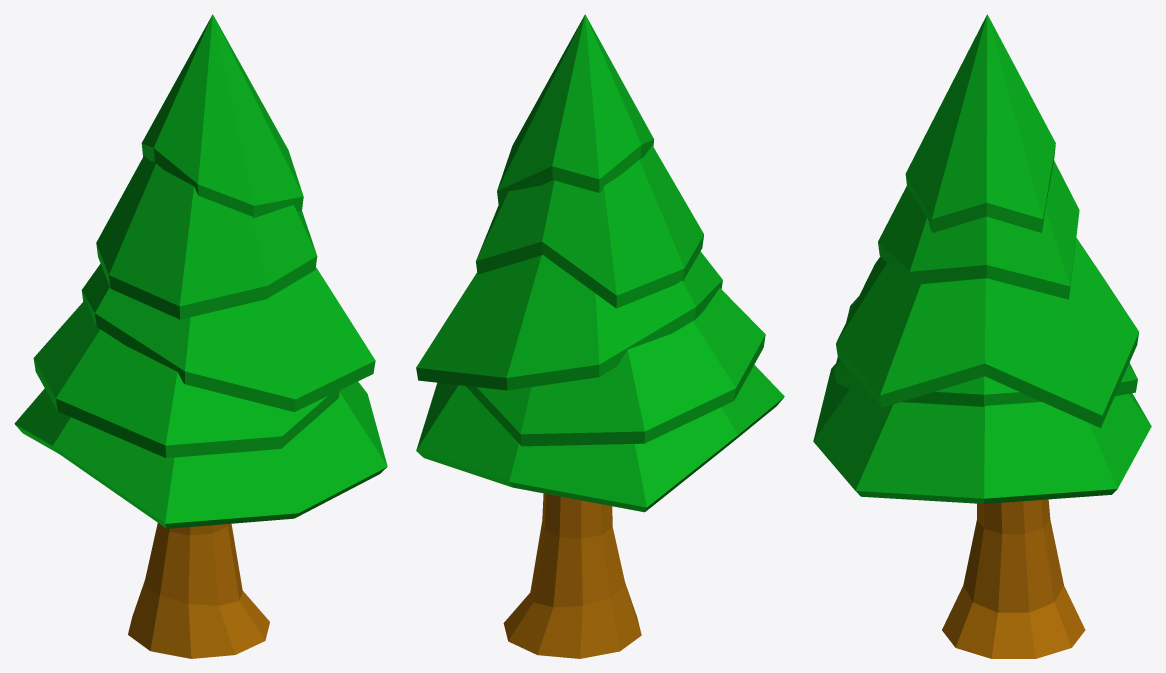
The model's file is Tree.fbx.
The picture shows the model from 3 angles, left to right: view 1: azimuth 30°, elevation 25°; view 2: azimuth 150°, elevation 25°; view 3: azimuth 270°, elevation 25°; orthographic projection. The views are drawn at different scales.
Parts seen in each view (by area): view 1: Plane, Plane.001; view 2: Plane, Plane.001; view 3: Plane, Plane.001.
Part boxes in pixels (<box>): Plane: <box>14,14,387,528</box>; Plane.001: <box>128,523,269,658</box>; Plane: <box>416,14,784,512</box>; Plane.001: <box>503,493,641,658</box>; Plane: <box>813,14,1151,503</box>; Plane.001: <box>942,499,1085,658</box>.
Size of the model in its own units: 7.61 by 14.53 by 7.23.
